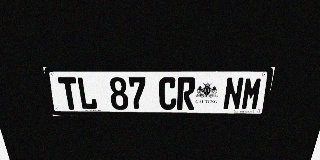7: (127, 77, 146, 110)
8: (109, 77, 129, 110)
C: (159, 77, 177, 110)
L: (76, 77, 98, 110)
M: (240, 77, 264, 110)
N: (223, 77, 244, 110)
R: (177, 77, 196, 110)
T: (57, 77, 80, 110)
